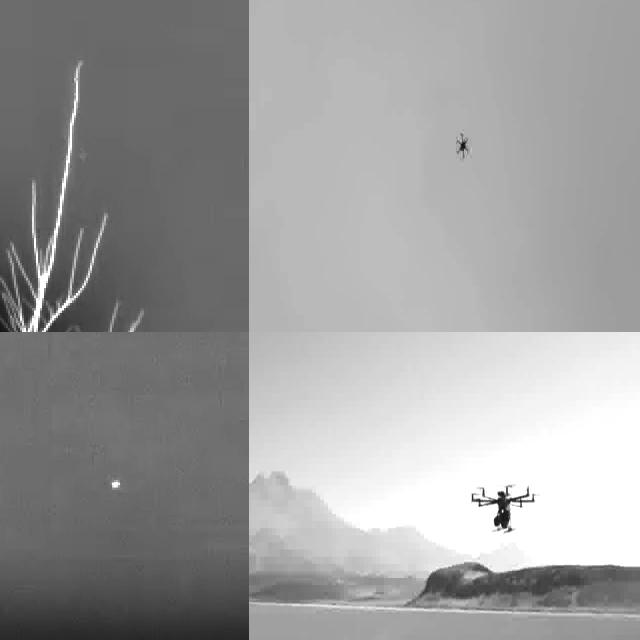0: (77, 148, 95, 166)
1: (106, 474, 132, 501)
drone: (472, 479, 538, 539), (449, 126, 474, 161)
